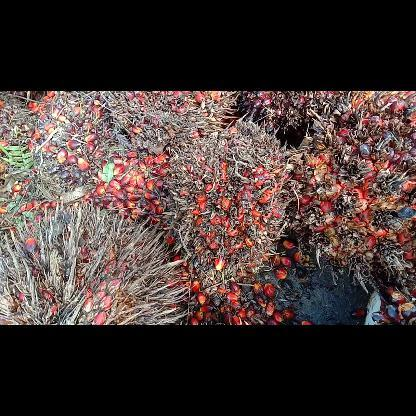Terlalu masak: (0, 200, 198, 324), (164, 117, 304, 290), (296, 90, 414, 292), (103, 91, 245, 153), (230, 91, 350, 133)
